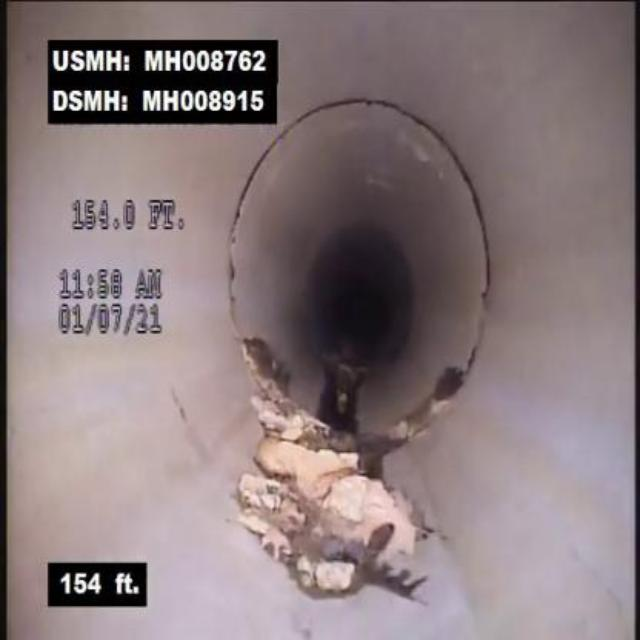Debris: (223, 408, 457, 598)
